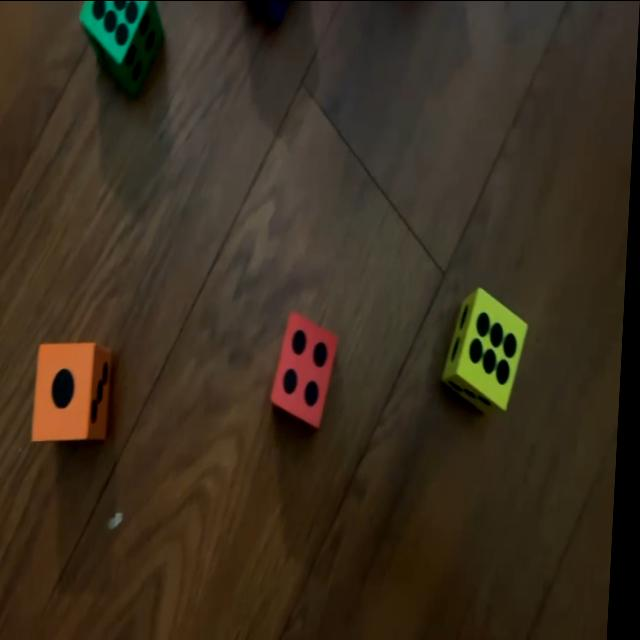cube: (76, 0, 165, 94), (275, 308, 344, 429)
